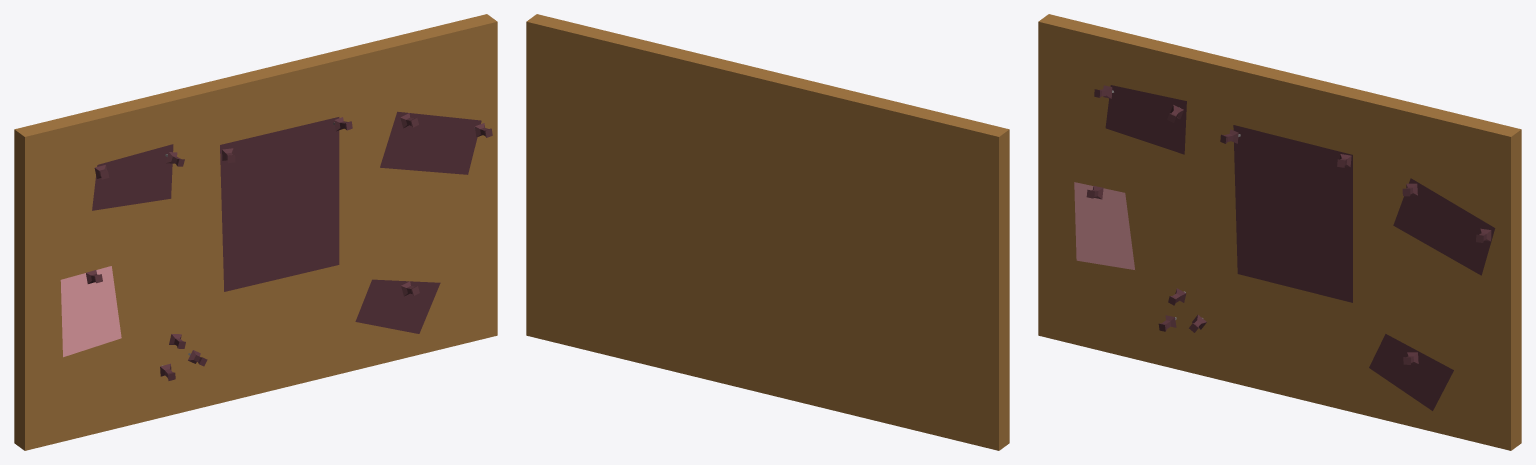
Rendered from pinboard.fbx.
3 views of the same model, side by side, from view 1: azimuth 30°, elevation 25°; view 2: azimuth 150°, elevation 25°; view 3: azimuth 330°, elevation 25° (orthographic).
Parts seen in each view (by area): view 1: pinboard; view 2: pinboard; view 3: pinboard.
Boxes of the visible parts, x1,y1,x2,y2 form: pinboard: [14, 14, 497, 450]; pinboard: [526, 14, 1009, 450]; pinboard: [1038, 14, 1521, 450].
Bounding box in the file's own units: 0.52 × 0.33 × 0.0428.
